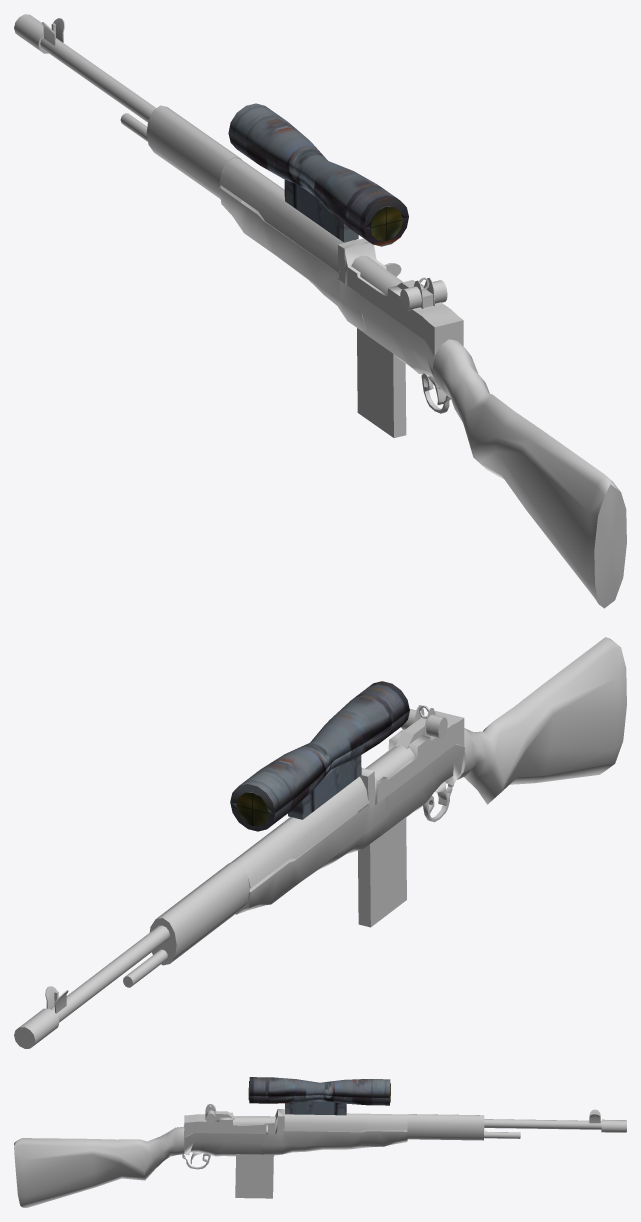
File: m21_world.fbx
The picture shows the model from 3 angles, top to bottom: view 1: azimuth 30°, elevation 25°; view 2: azimuth 150°, elevation 25°; view 3: azimuth 270°, elevation 25°; orthographic projection. The views are drawn at different scales.
Visible parts, largest first — view 1: m14_stock, m14_grip, m14_scope, m14_body, m14_clip, m14_barrels, m14_rearsight, m14_bolt, m14_scopeglass; view 2: m14_stock, m14_grip, m14_scope, m14_body, m14_clip, m14_barrels, m14_rearsight, m14_bolt, m14_scopeglass, m14_trigger; view 3: m14_stock, m14_grip, m14_scope, m14_body, m14_clip, m14_barrels, m14_bolt, m14_rearsight, m14_trigger.
Boxes of the visible parts, bbox=[...] form: m14_stock: bbox=[432, 339, 626, 608]; m14_grip: bbox=[146, 105, 366, 332]; m14_scope: bbox=[228, 103, 408, 246]; m14_body: bbox=[338, 238, 463, 389]; m14_clip: bbox=[357, 328, 406, 437]; m14_barrels: bbox=[14, 14, 155, 141]; m14_rearsight: bbox=[397, 277, 447, 310]; m14_bolt: bbox=[351, 255, 402, 295]; m14_scopeglass: bbox=[370, 207, 402, 240]; m14_stock: bbox=[457, 637, 626, 804]; m14_grip: bbox=[149, 776, 389, 965]; m14_scope: bbox=[230, 681, 409, 831]; m14_body: bbox=[359, 711, 464, 836]; m14_clip: bbox=[357, 809, 406, 927]; m14_barrels: bbox=[14, 925, 169, 1048]; m14_rearsight: bbox=[395, 705, 447, 748]; m14_bolt: bbox=[365, 745, 414, 781]; m14_scopeglass: bbox=[236, 792, 268, 825]; m14_trigger: bbox=[423, 782, 453, 822]; m14_stock: bbox=[14, 1126, 184, 1207]; m14_grip: bbox=[261, 1112, 484, 1155]; m14_scope: bbox=[249, 1077, 390, 1115]; m14_body: bbox=[184, 1109, 284, 1156]; m14_clip: bbox=[235, 1154, 273, 1198]; m14_barrels: bbox=[484, 1119, 626, 1138]; m14_bolt: bbox=[233, 1116, 275, 1134]; m14_rearsight: bbox=[205, 1103, 234, 1124]; m14_trigger: bbox=[182, 1151, 210, 1169].
Bounding box in the file's own units: 3.4 × 14.96 × 64.12.
